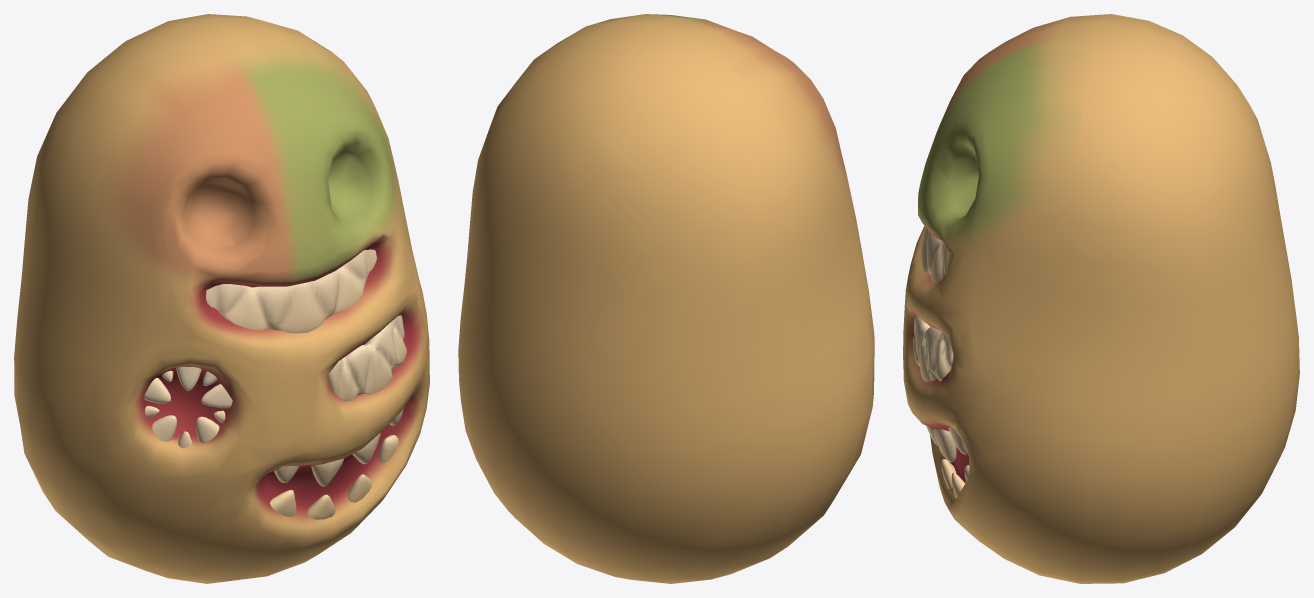
File: potato_body_mouth3.fbx
The picture shows the model from 3 angles, left to right: view 1: azimuth 30°, elevation 25°; view 2: azimuth 150°, elevation 25°; view 3: azimuth 270°, elevation 25°; orthographic projection.
Parts seen in each view (by area): view 1: body5_body_with_mouths_4; view 2: body5_body_with_mouths_4; view 3: body5_body_with_mouths_4.
Boxes of the visible parts, x1,y1,x2,y2 form: body5_body_with_mouths_4: [14, 14, 429, 583]; body5_body_with_mouths_4: [458, 14, 874, 583]; body5_body_with_mouths_4: [903, 14, 1299, 583].
Bounding box in the file's own units: 2.05 × 2.85 × 1.94.
